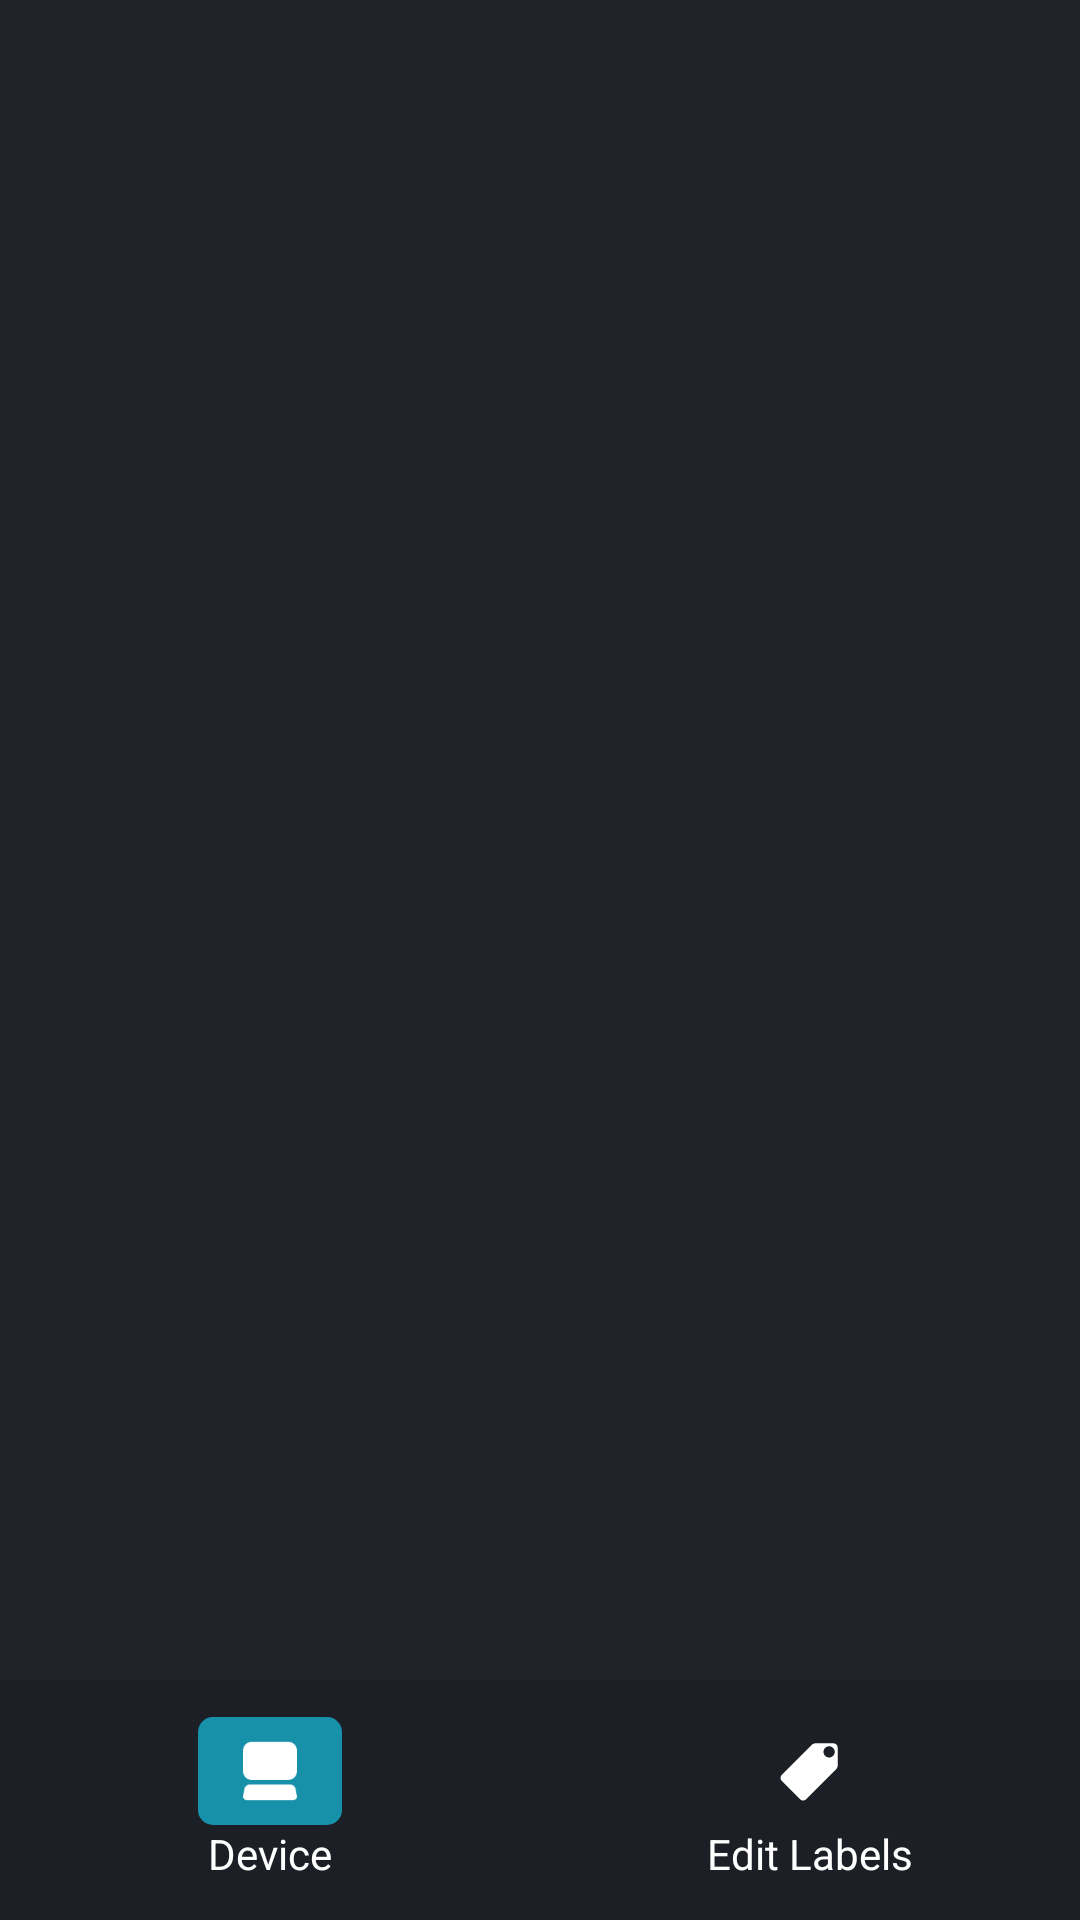

Icon bounding boxes for this 1080*1920 phone screenshot, format bbox=(x1, y1, x2, y2):
computer: bbox=(243, 1741, 297, 1801)
